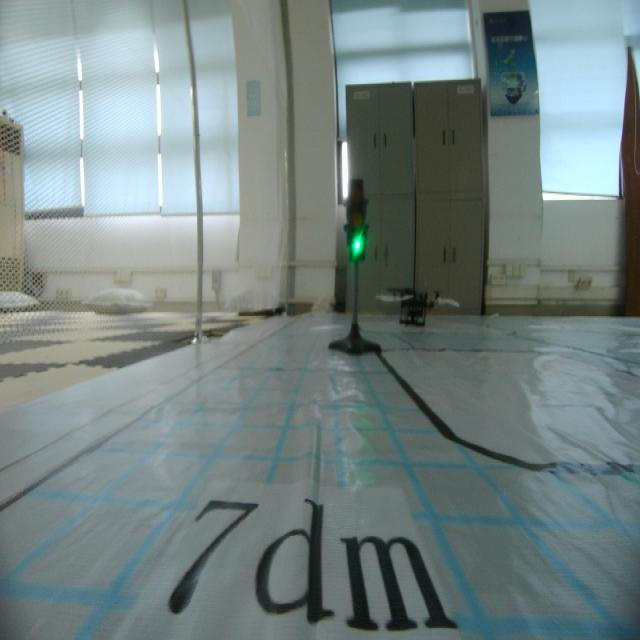green: (338, 175, 370, 268)
